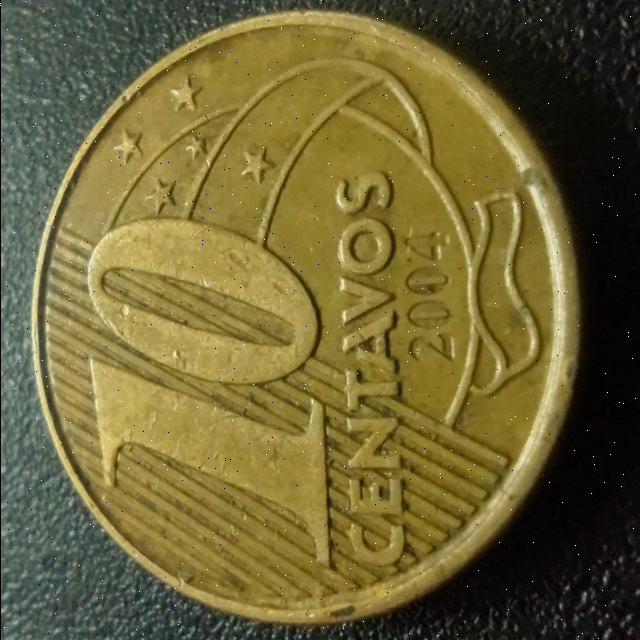10 cent: (29, 12, 589, 618)
